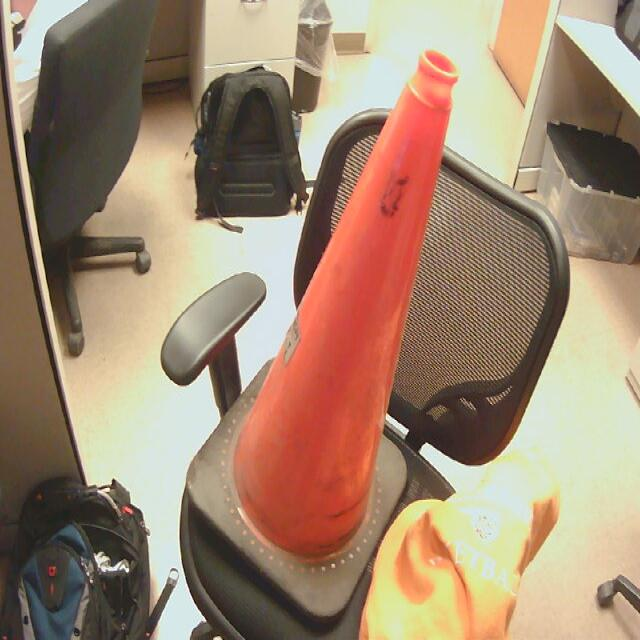traffic cone: (231, 53, 460, 565)
